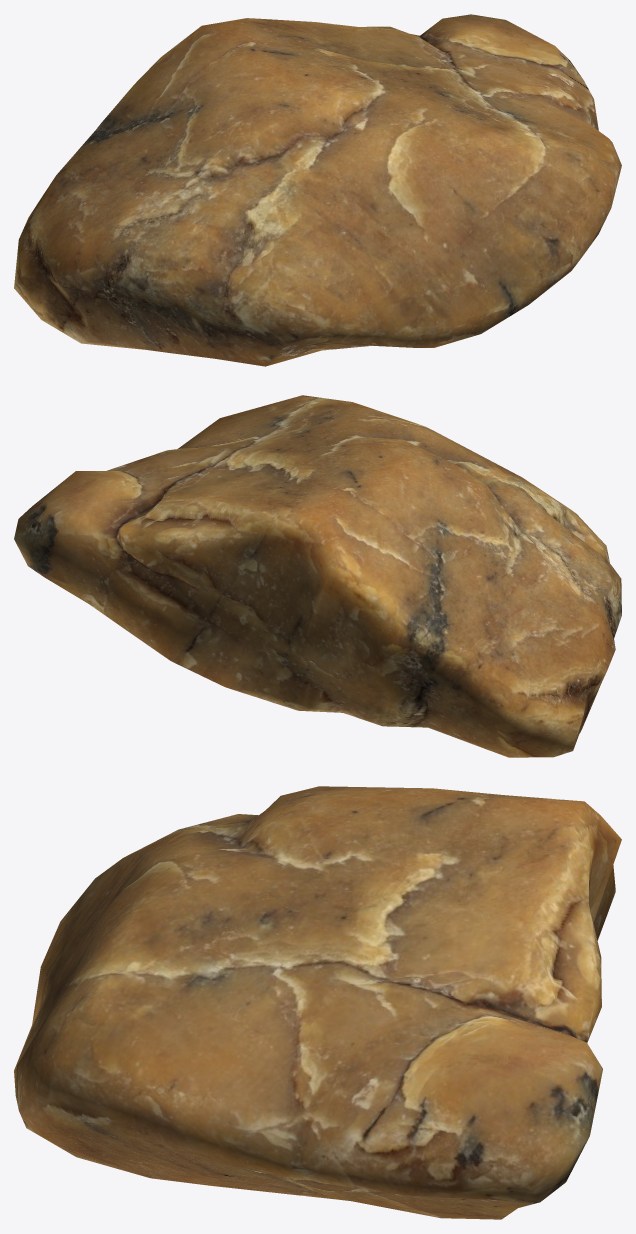
The model's file is rock_03.obj.
3 renders of one model, top to bottom at view 1: azimuth 30°, elevation 25°; view 2: azimuth 150°, elevation 25°; view 3: azimuth 270°, elevation 25°, orthographic. The views are drawn at different scales.
Visible parts, largest first — view 1: rock03_lr; view 2: rock03_lr; view 3: rock03_lr.
Part boxes in pixels (x1=…): rock03_lr: x1=14, y1=14, x2=621, y2=366; rock03_lr: x1=14, y1=395, x2=621, y2=757; rock03_lr: x1=14, y1=786, x2=621, y2=1219.
Size of the model in its own units: 34.25 by 14.1 by 23.
